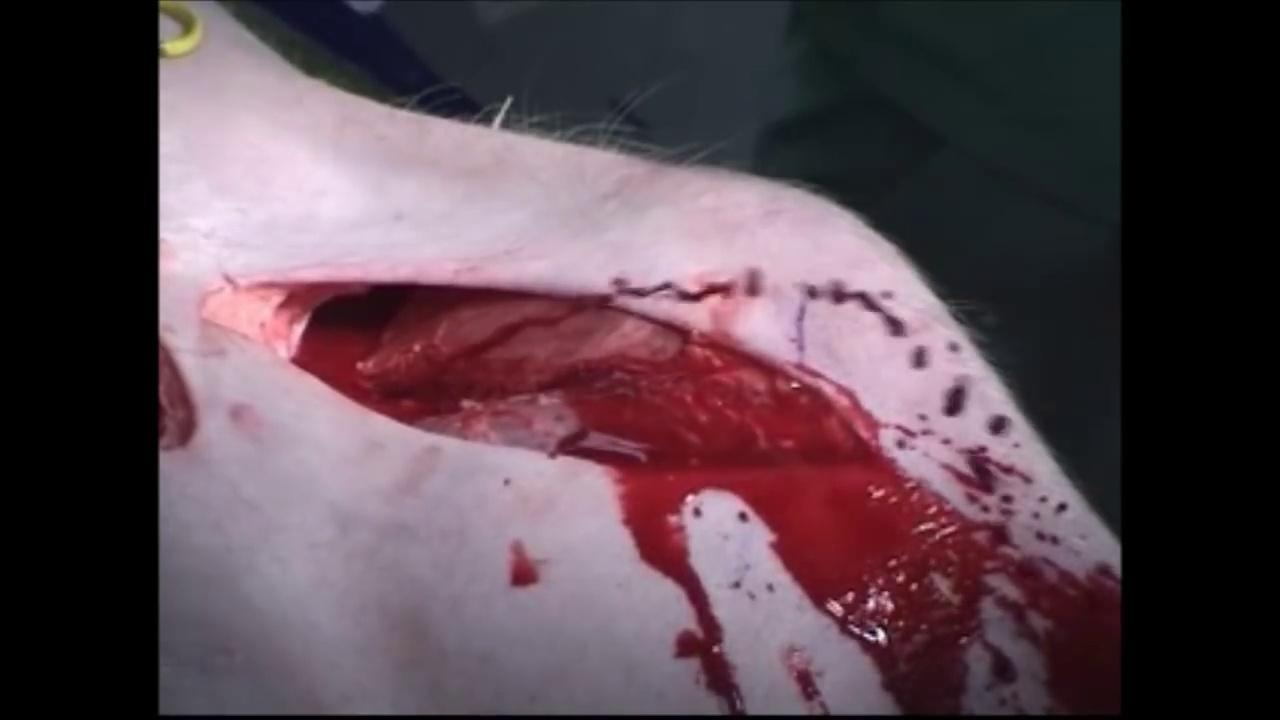Fire: (295, 268, 1122, 714), (510, 539, 540, 586)
